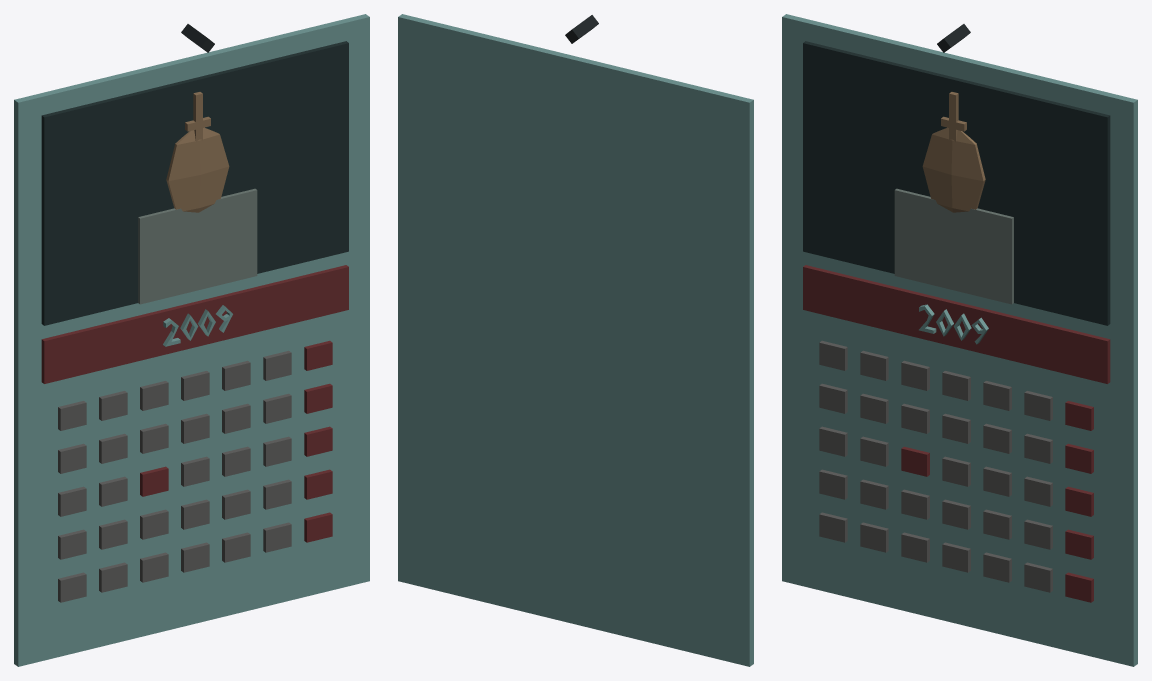
File: calendar.glb
The picture shows the model from 3 angles, left to right: view 1: azimuth 30°, elevation 25°; view 2: azimuth 150°, elevation 25°; view 3: azimuth 330°, elevation 25°; orthographic projection.
Visible parts, largest first — view 1: Calendar; view 2: Calendar; view 3: Calendar.
Part boxes in pixels (x1,y1,x2,y2): Calendar: [14, 14, 369, 666]; Calendar: [398, 14, 753, 666]; Calendar: [782, 14, 1137, 666].
Size of the model in its own units: 0.3 by 0.486 by 0.03.
